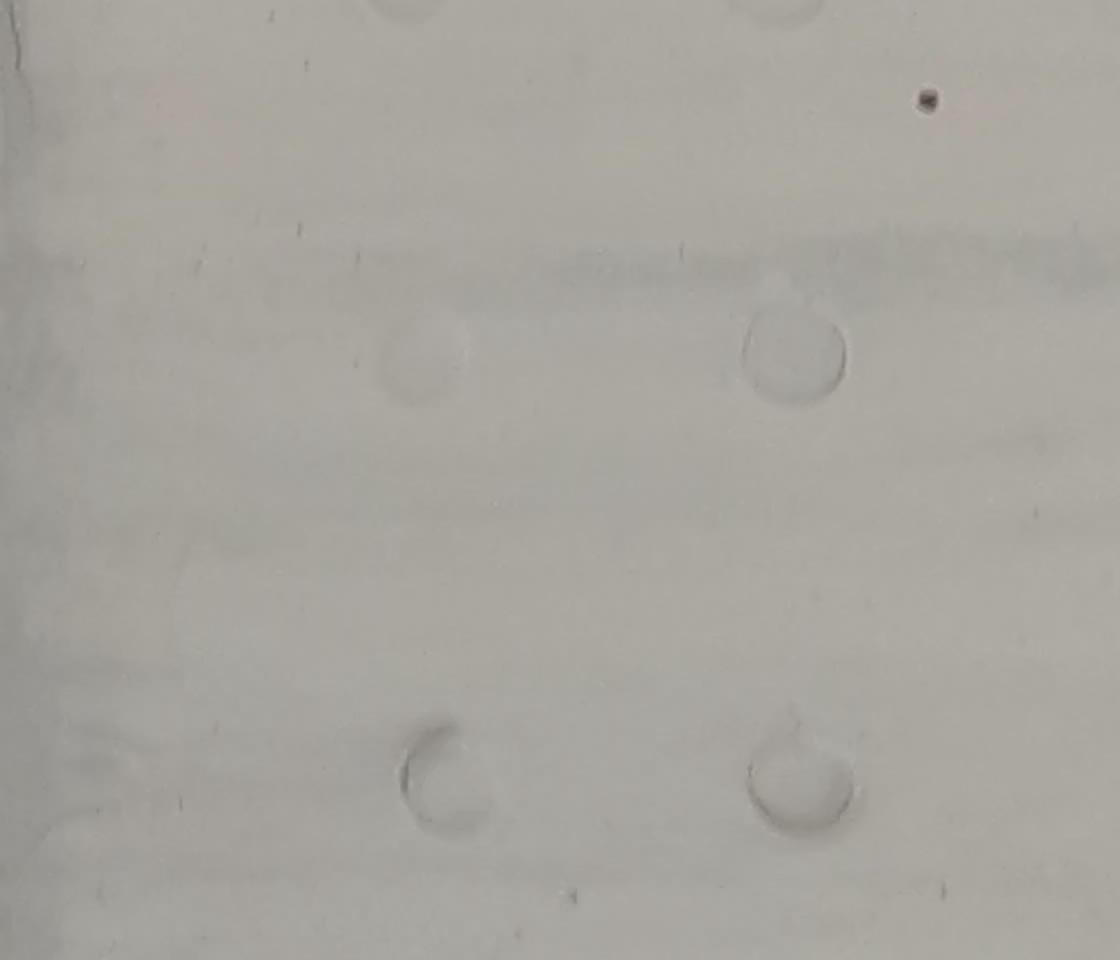scratch: (906, 82, 946, 120)
